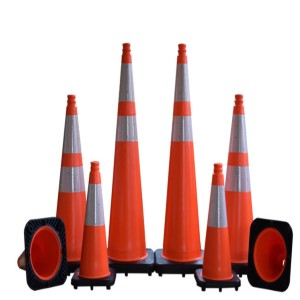traffic cone: (154, 43, 216, 278), (101, 42, 154, 276), (213, 94, 270, 277), (48, 94, 100, 272), (71, 160, 117, 291), (195, 163, 241, 291), (17, 217, 68, 291), (247, 217, 293, 292)
